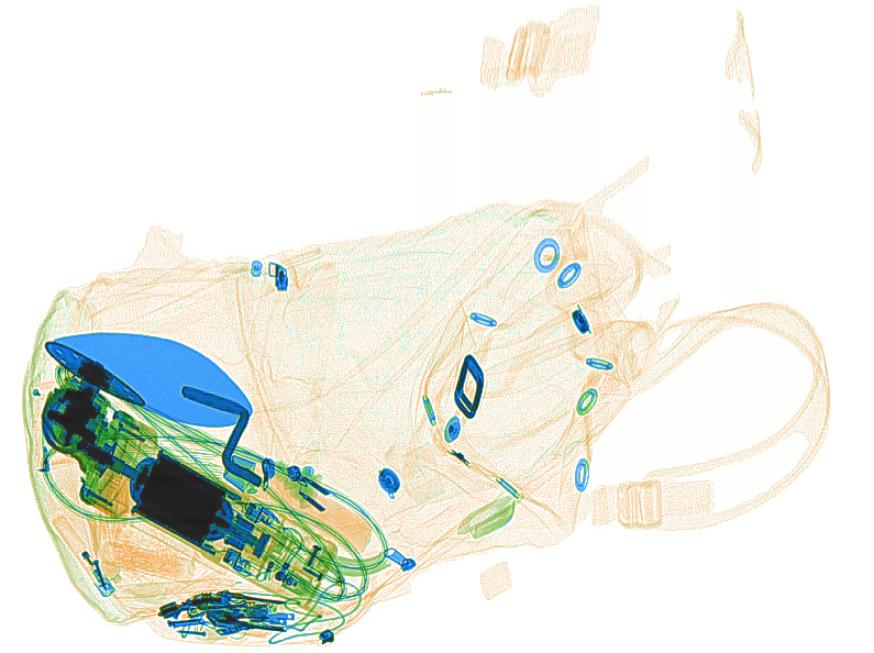lighter: (54, 510, 116, 599)
